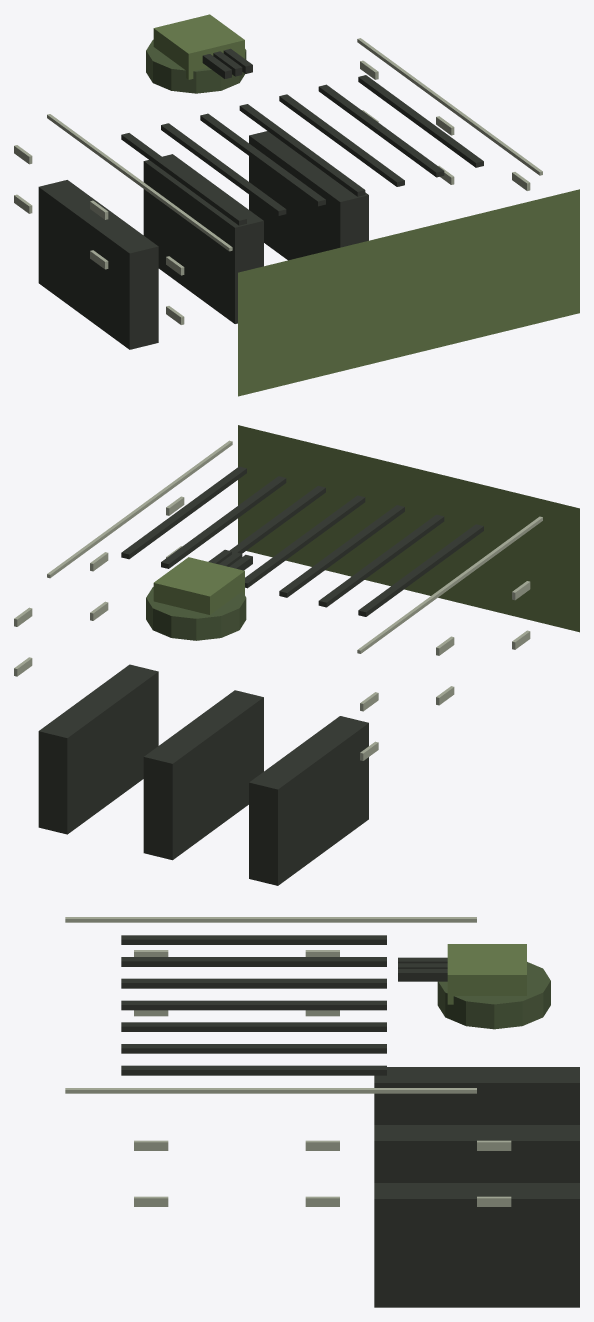
Rendered from heavy_bow.obj.
3 views of the same model, one above another, from view 1: azimuth 30°, elevation 25°; view 2: azimuth 150°, elevation 25°; view 3: azimuth 270°, elevation 25° (orthographic). The views are drawn at different scales.
Size of the model in its own units: 2.65 by 1.81 by 3.3.
Materials: 4 (4 with a texture image).
